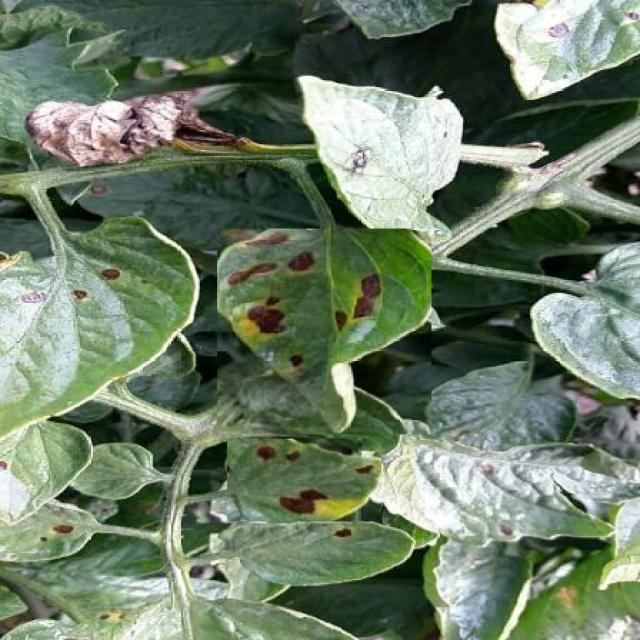Early Blight: (218, 229, 432, 435), (227, 438, 382, 522)
